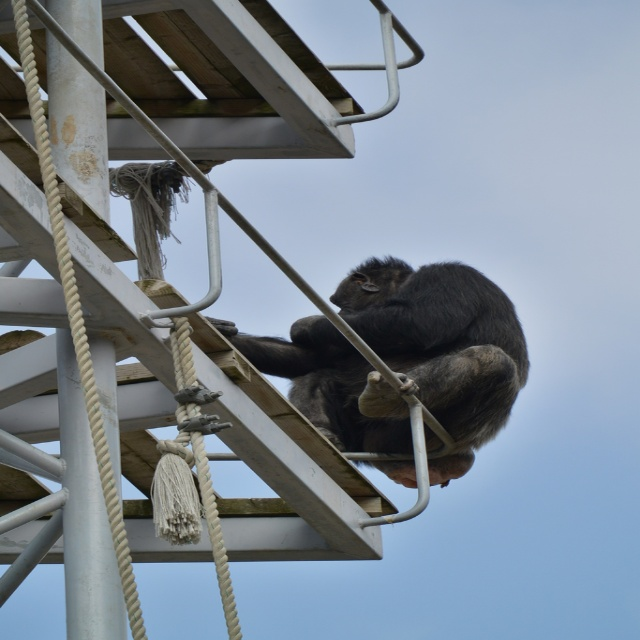Monkey: (268, 246, 528, 510)
